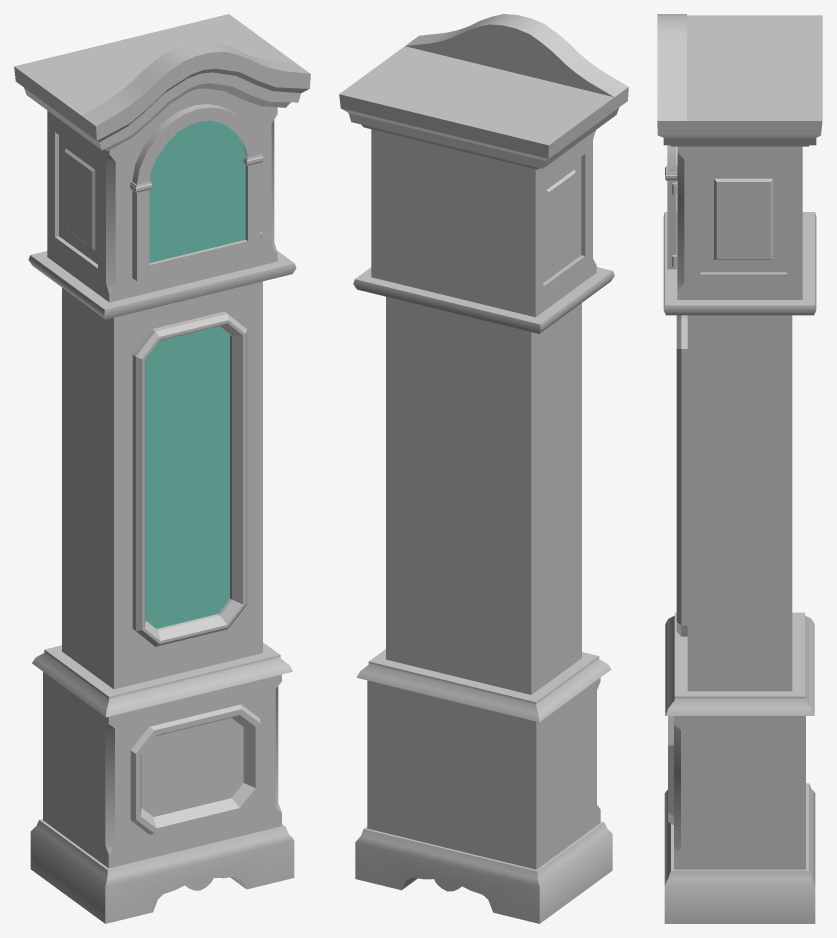
Rendered from clock_separated.fbx.
3 views of the same model, side by side, from view 1: azimuth 30°, elevation 25°; view 2: azimuth 150°, elevation 25°; view 3: azimuth 270°, elevation 25° (orthographic). The views are drawn at different scales.
Parts seen in each view (by area): view 1: clock_separated, clock_door; view 2: clock_separated; view 3: clock_separated, clock_door.
Part boxes in pixels (box(x1,y1,x2,y2)): clock_separated: box(14, 14, 310, 923); clock_door: box(130, 104, 263, 280); clock_separated: box(339, 14, 628, 923); clock_separated: box(657, 14, 822, 923); clock_door: box(665, 145, 677, 269).
Bounding box in the file's own units: 53.73 × 203 × 35.49.
